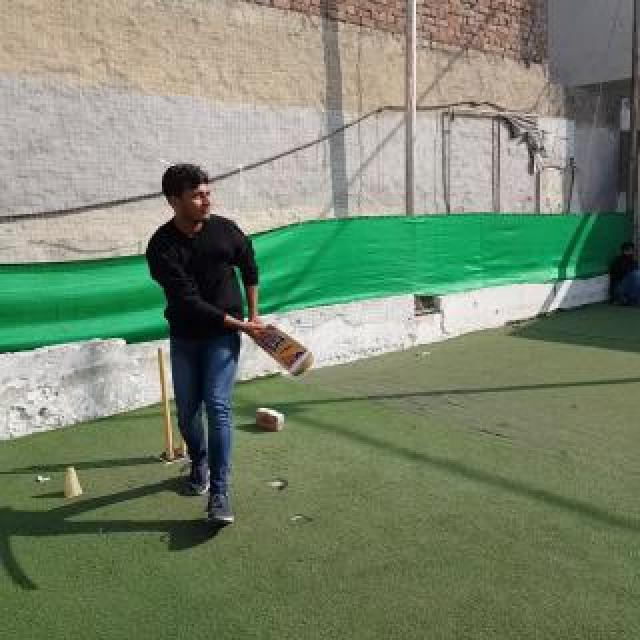bat: (252, 324, 314, 378)
